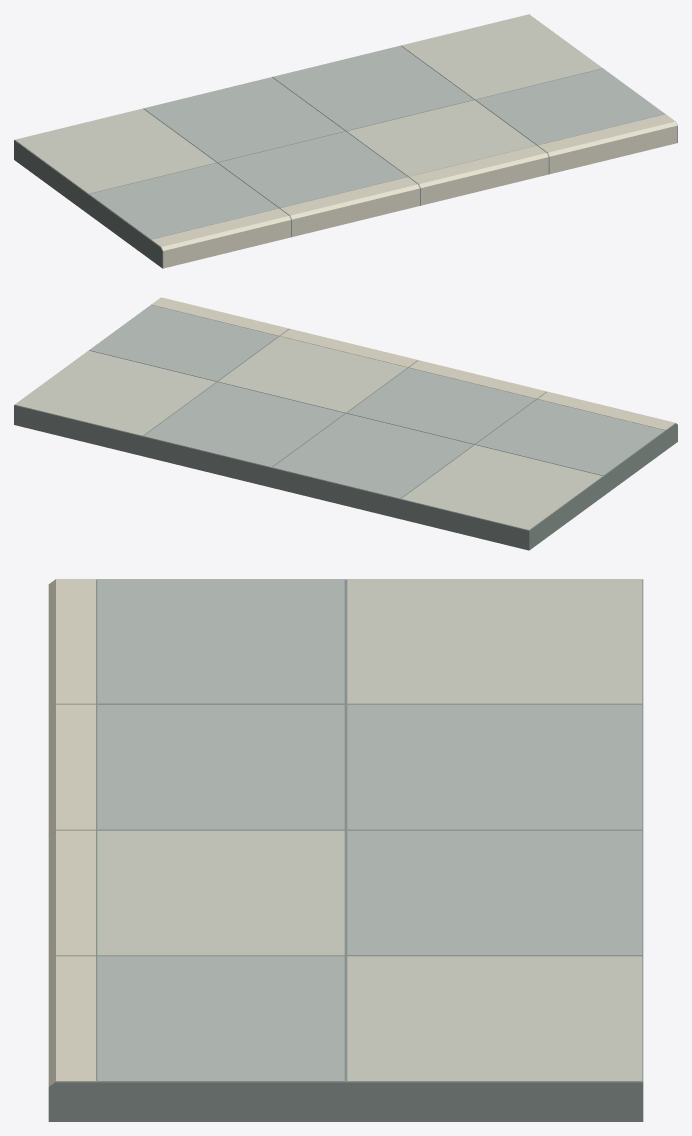
File: sidewalk_straight_4m.glb
The picture shows the model from 3 angles, top to bottom: view 1: azimuth 30°, elevation 25°; view 2: azimuth 150°, elevation 25°; view 3: azimuth 270°, elevation 25°; orthographic projection. The views are drawn at different scales.
Visible parts, largest first — view 1: sidewalk_straight_4m; view 2: sidewalk_straight_4m; view 3: sidewalk_straight_4m.
Part boxes in pixels (x1=…): sidewalk_straight_4m: x1=14, y1=14, x2=677, y2=268; sidewalk_straight_4m: x1=14, y1=297, x2=677, y2=550; sidewalk_straight_4m: x1=48, y1=579, x2=643, y2=1121.
Bounding box in the file's own units: 4 × 0.15 × 2.
